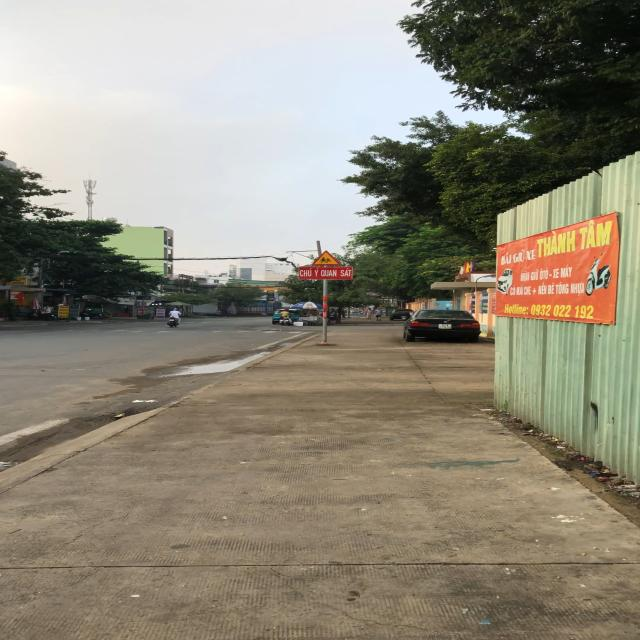Bien bao tre em: (310, 249, 342, 267)
